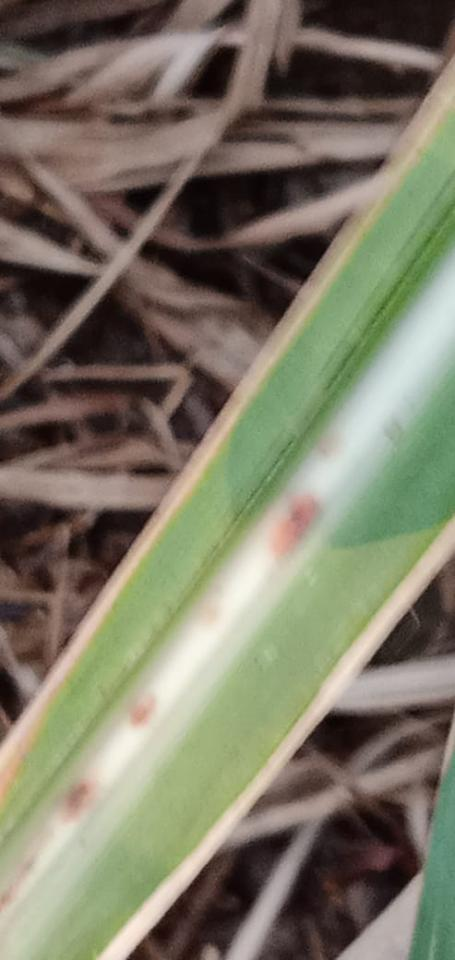RedRot: (263, 487, 329, 570), (50, 777, 94, 827), (125, 683, 160, 733)
Yellow: (0, 53, 454, 800), (96, 512, 454, 959)
